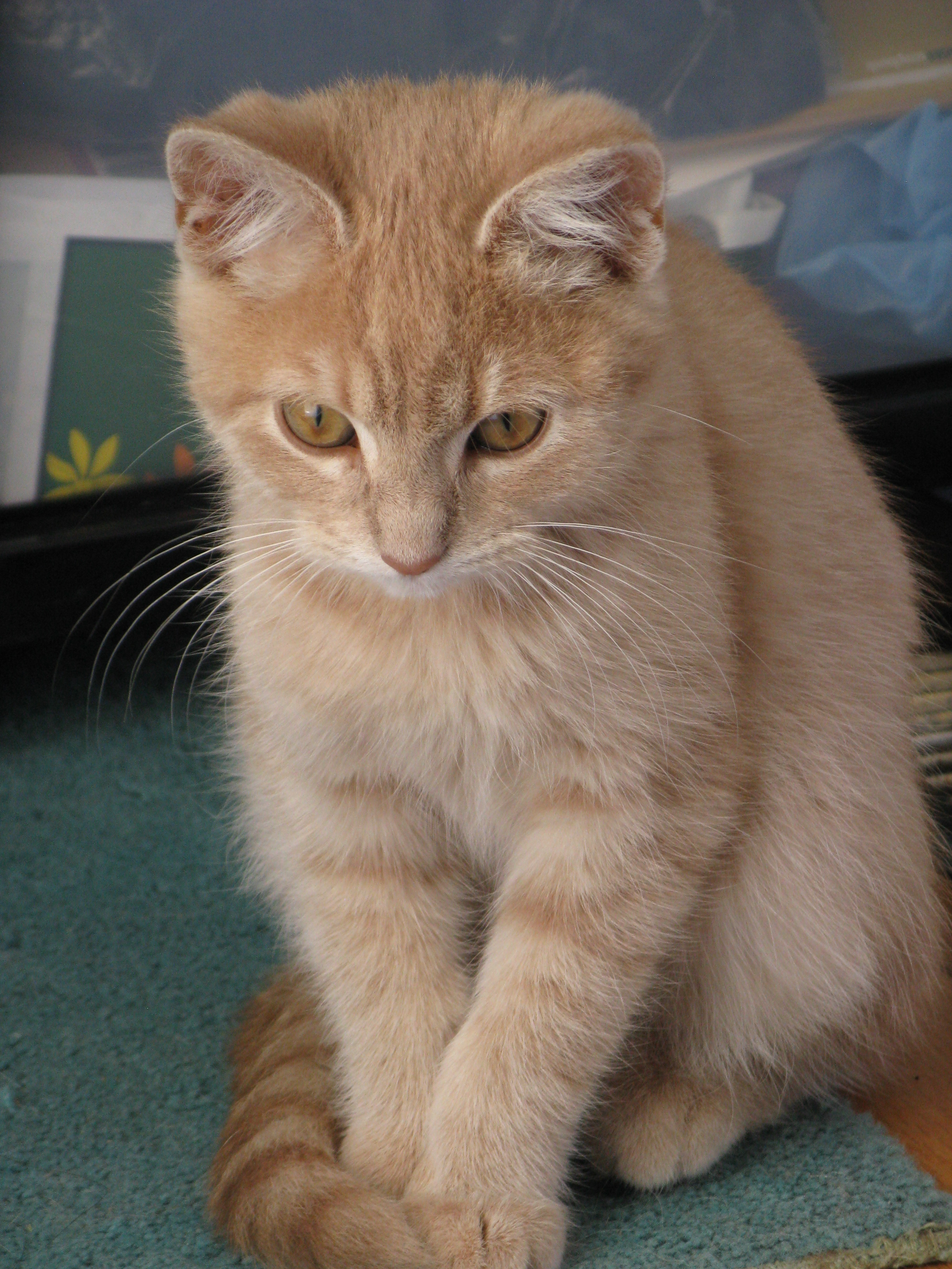cat: (59, 67, 951, 1268)
